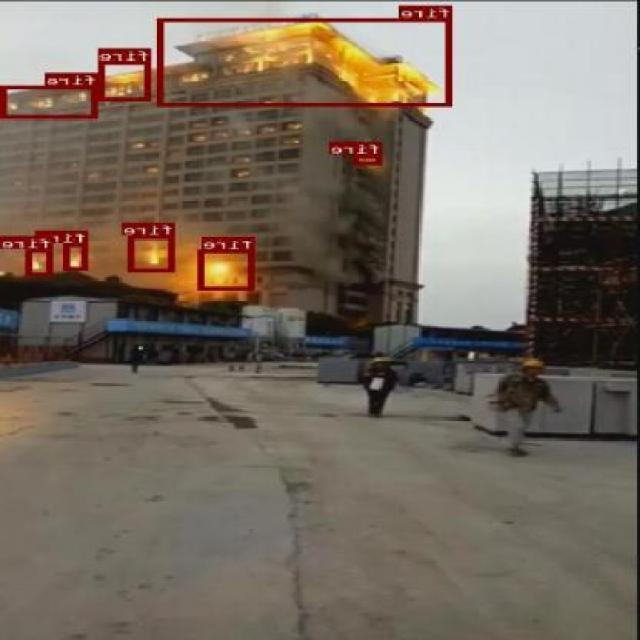Fire: (158, 18, 453, 106), (2, 85, 100, 118), (200, 249, 256, 289), (100, 61, 152, 101), (130, 234, 176, 272), (26, 248, 54, 274), (66, 242, 88, 270), (354, 154, 384, 164)
Smoke: (284, 184, 354, 294)
